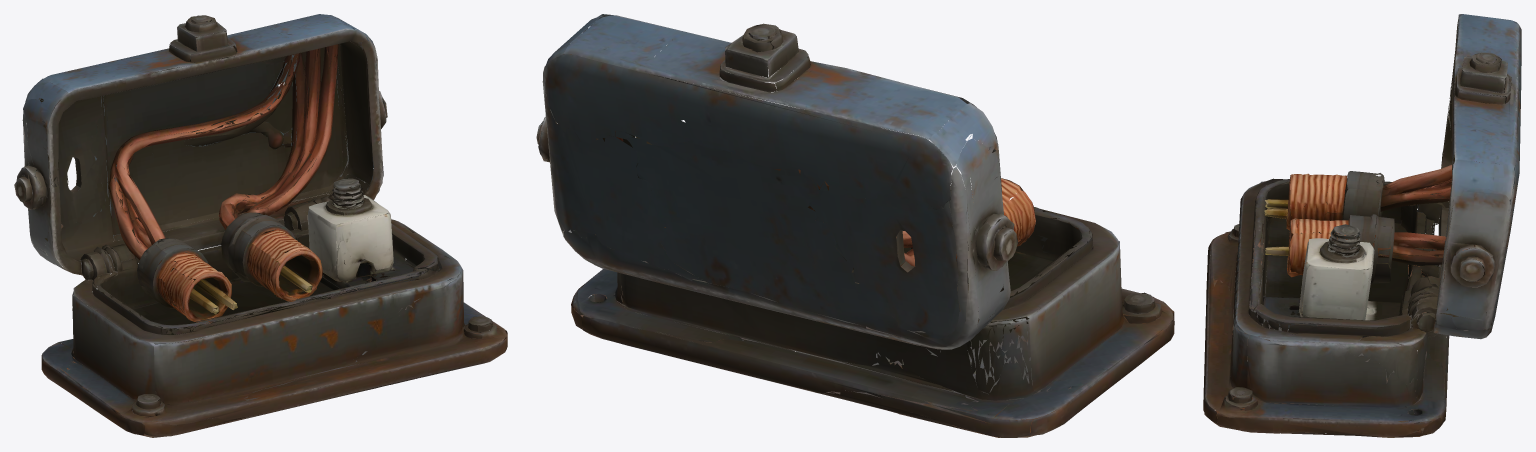
The model's file is prop-cut-connector-set.glb.
3 renders of one model, left to right at view 1: azimuth 30°, elevation 25°; view 2: azimuth 150°, elevation 25°; view 3: azimuth 270°, elevation 25°, orthographic. The views are drawn at different scales.
Parts seen in each view (by area): view 1: prop-cut-connector-set; view 2: prop-cut-connector-set; view 3: prop-cut-connector-set.
Part boxes in pixels (<box>): prop-cut-connector-set: <box>14,14,507,437</box>; prop-cut-connector-set: <box>536,14,1174,437</box>; prop-cut-connector-set: <box>1203,14,1521,437</box>.
Size of the model in its own units: 0.479 by 0.3501 by 0.3435.
1 material, 1 textured.
